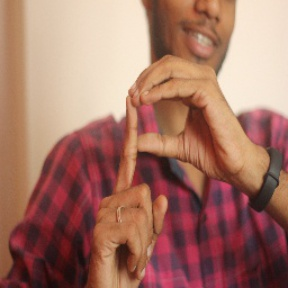P: (91, 53, 236, 259)
